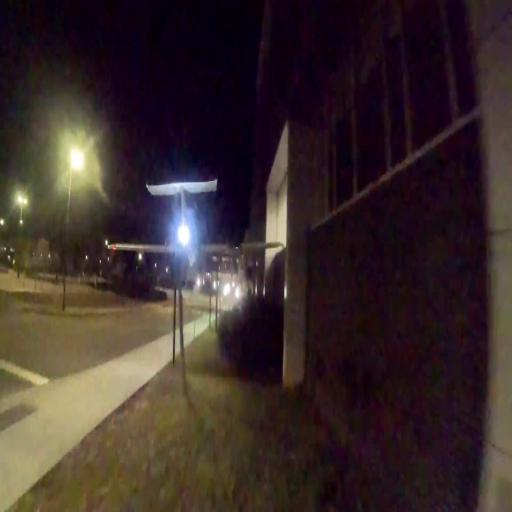uav: (105, 176, 283, 271)
